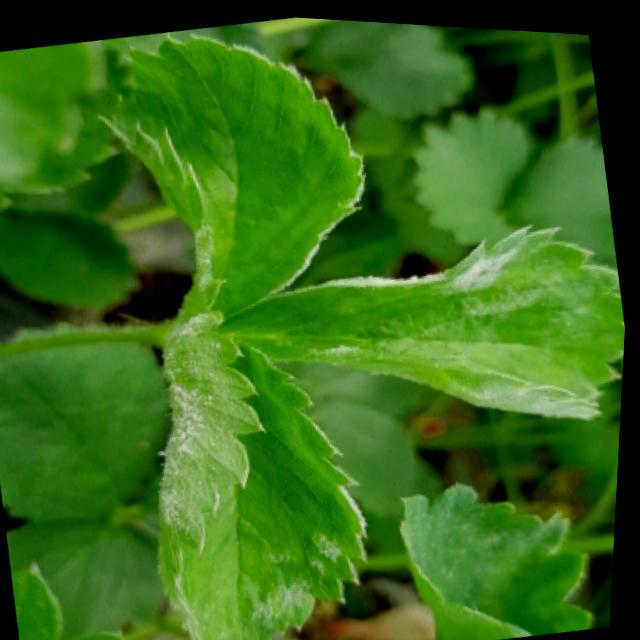Powdery Mildew Leaf: (221, 215, 628, 416), (96, 29, 367, 327), (158, 303, 375, 640)
